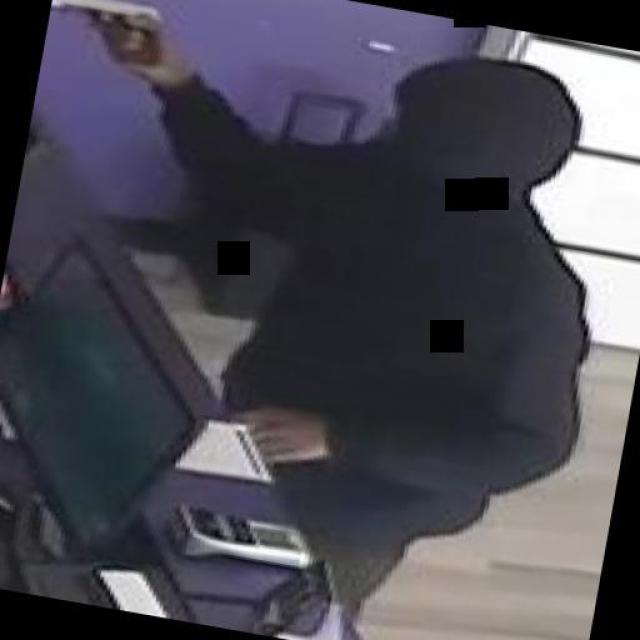gun: (42, 0, 166, 69)
